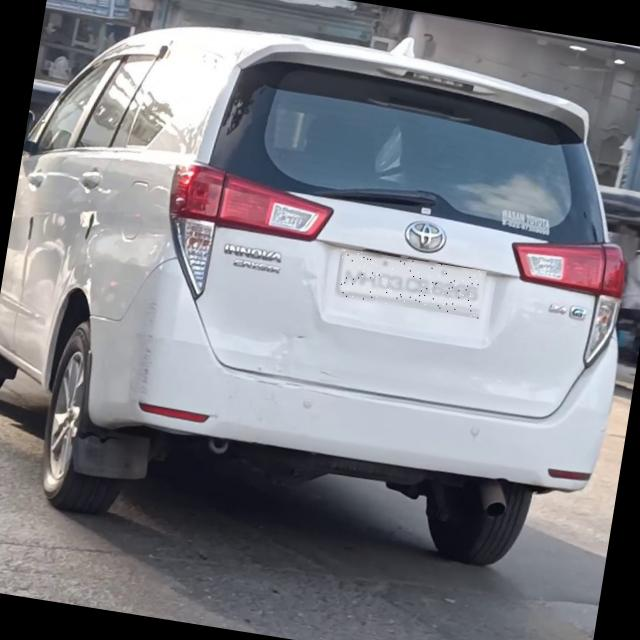Plate: (335, 250, 488, 320)
